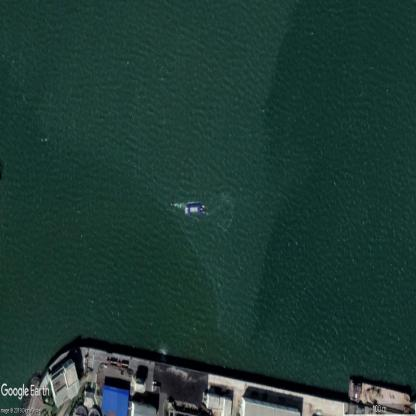ship: (185, 202, 204, 216)
